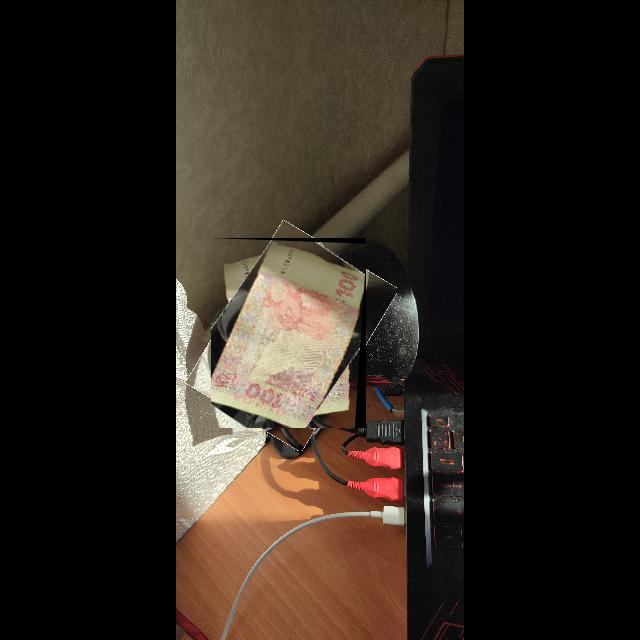100uah: (211, 241, 366, 429)
